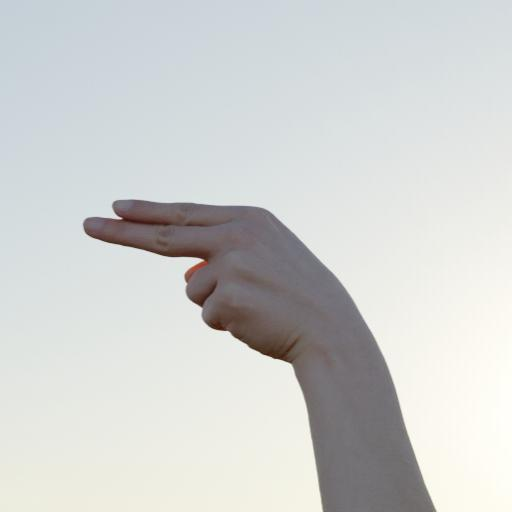H: (66, 184, 401, 410)
